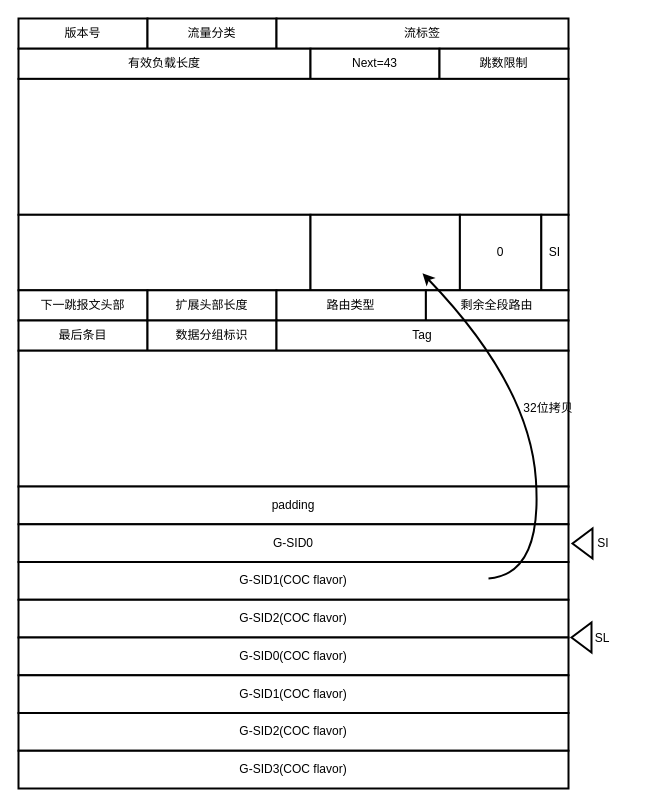
Image size: 650x806. Some labels were removed from this diagram. The shapes that lost their labels are listed below. From the top down, each one's box as (x1, y1, x2, y2) in pixels, then its label:
(17, 77, 569, 215): 源地址
(17, 213, 311, 291): 前缀
(309, 213, 460, 291): G-SID
(17, 349, 569, 487): 128 bit SID
